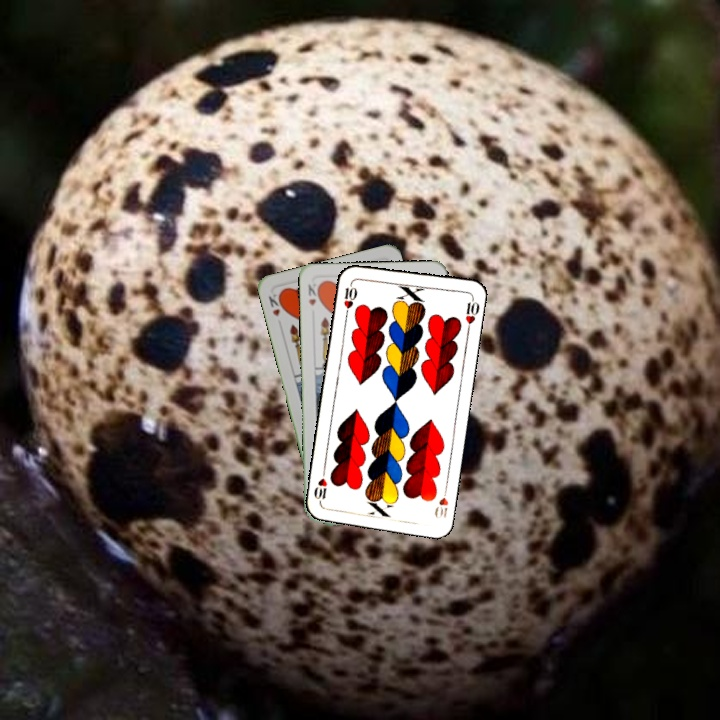H10: (340, 277, 360, 318), (430, 482, 451, 521)
HK: (264, 289, 286, 319), (304, 278, 322, 308)
